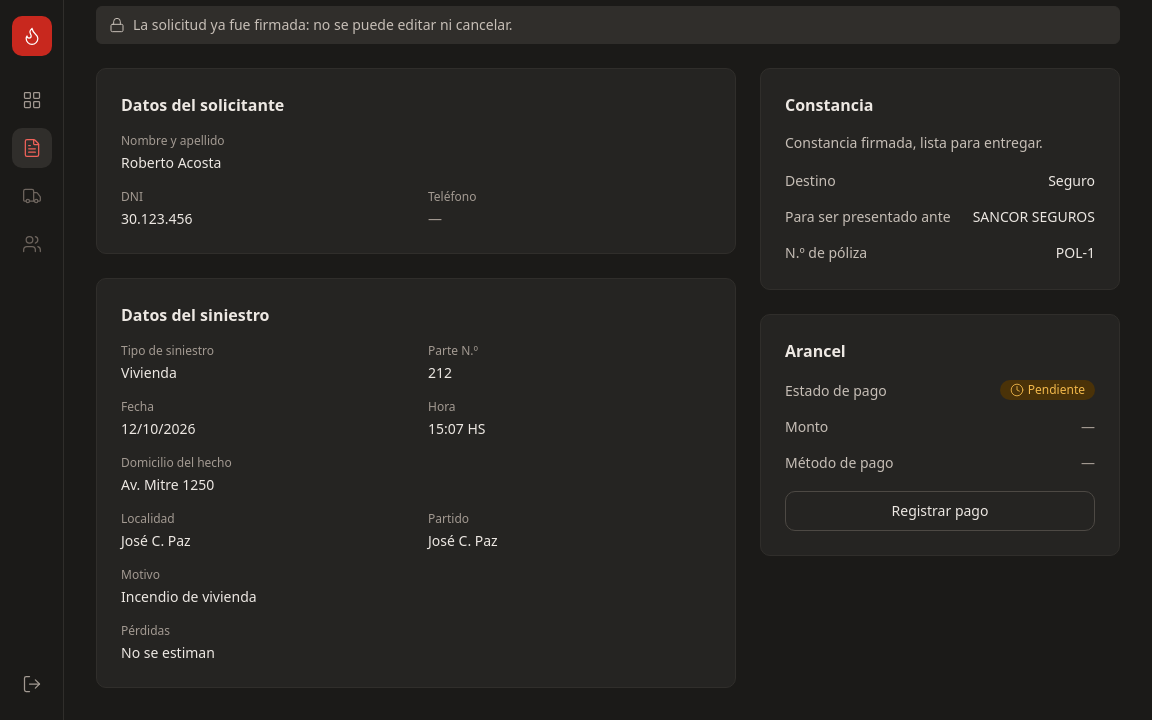
SolicitudDetallePage · arancel (US14) › formatea el monto con miles al salir del campo
(page scrolled)
Click the button "Registrar pago" at (940, 511), box left=785, top=491, right=1095, bottom=531
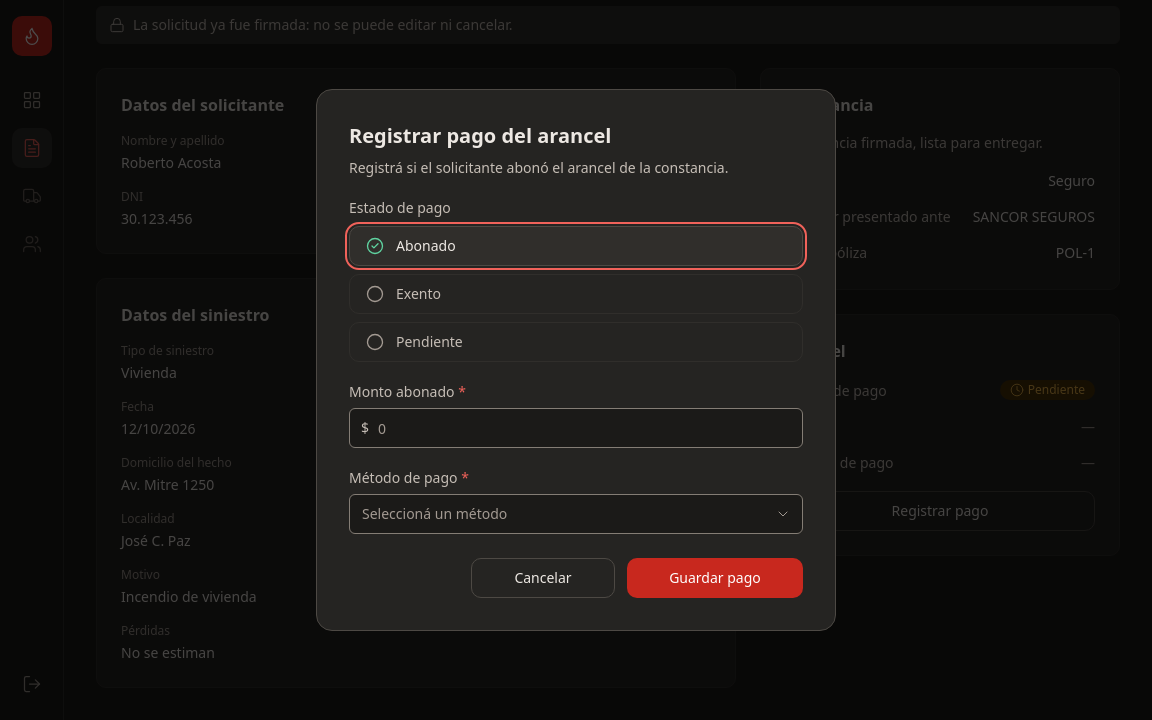
Type "15000" into the field labelled "Monto abonado *" at (576, 428), box left=349, top=408, right=803, bottom=448
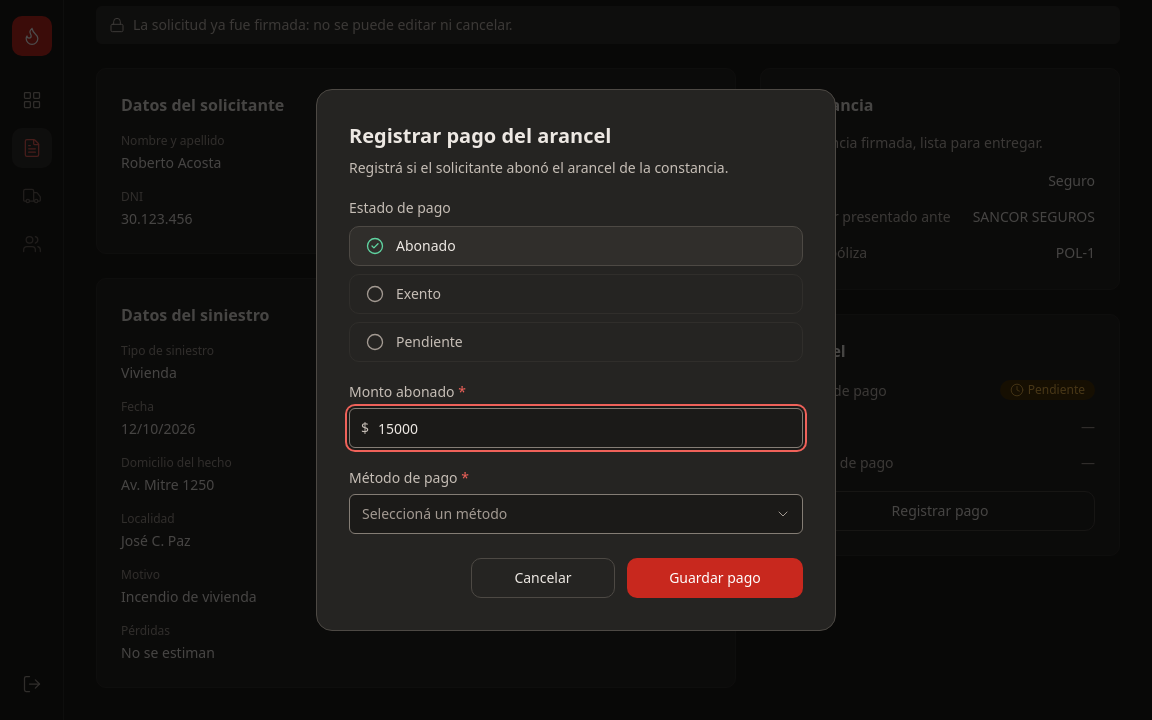
Press Tab
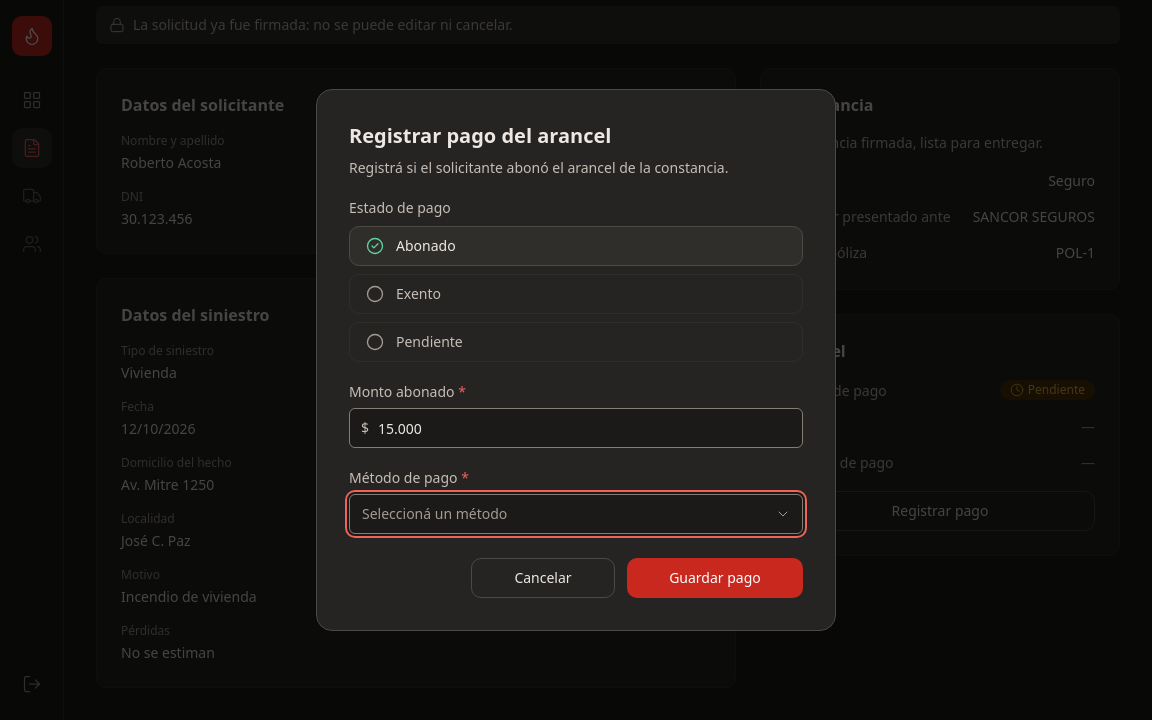
Check: the field labelled "Monto abonado *" holds "15.000", box left=349, top=408, right=803, bottom=448
